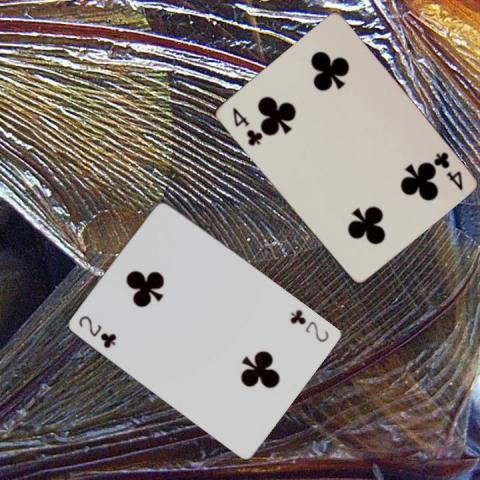2c: (288, 306, 331, 344), (76, 313, 119, 350)
4c: (229, 104, 263, 147), (430, 149, 464, 192)
